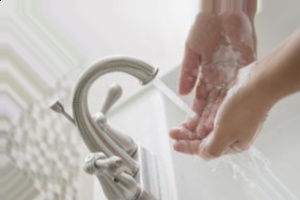washing hand: (60, 0, 299, 199)
